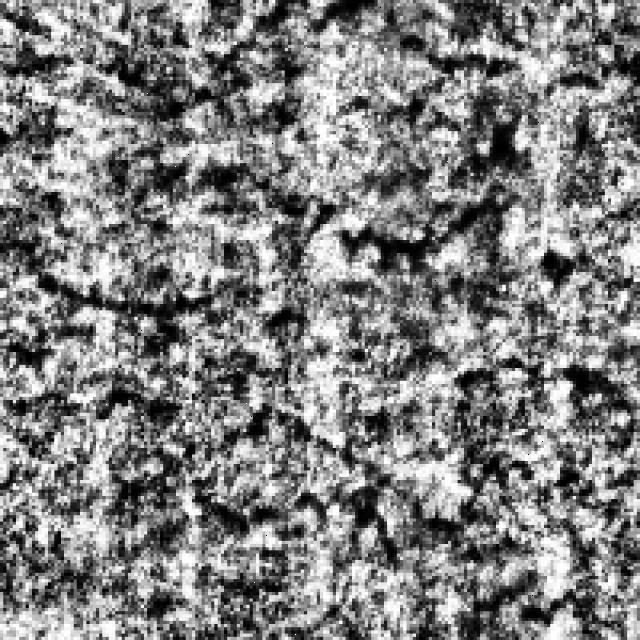Pitted_Surface: (166, 0, 637, 259), (0, 227, 618, 419), (102, 112, 576, 317), (90, 381, 528, 560)
